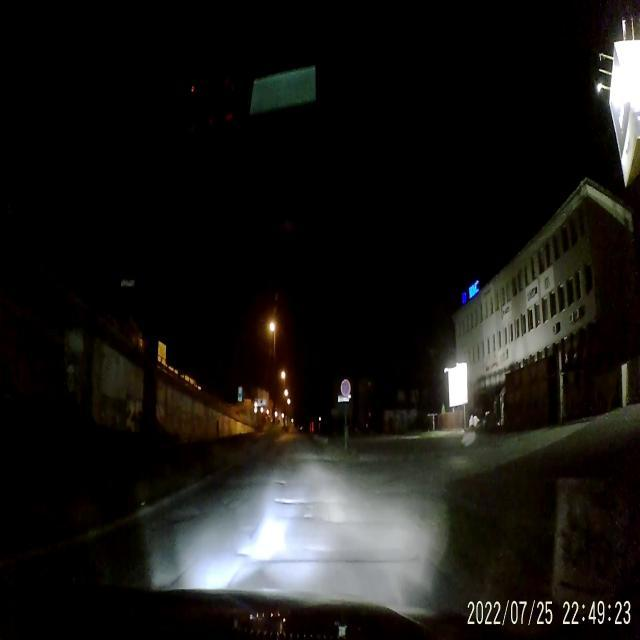Pothole: (273, 492, 313, 512), (164, 504, 199, 521), (271, 476, 288, 490)
